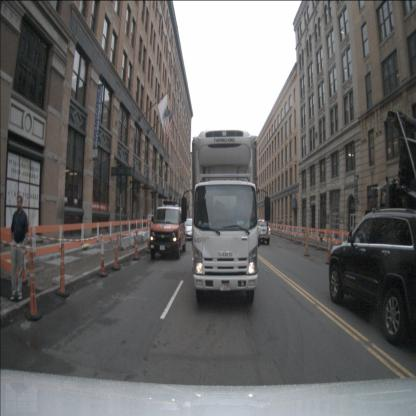human-pedestrian-adult: (10, 195, 29, 301)
movable_object-trafficcone: (26, 234, 43, 322), (55, 236, 70, 298), (98, 227, 108, 277), (112, 226, 121, 271), (132, 224, 140, 260), (326, 237, 332, 265), (145, 227, 151, 253), (304, 234, 310, 256), (316, 229, 321, 250), (293, 229, 297, 244), (302, 232, 306, 246), (290, 230, 294, 242)
vehicle-car: (328, 208, 416, 349), (149, 205, 186, 259), (250, 219, 271, 244), (182, 218, 198, 240)
vehicle-truck: (192, 129, 258, 304), (372, 110, 416, 280)
